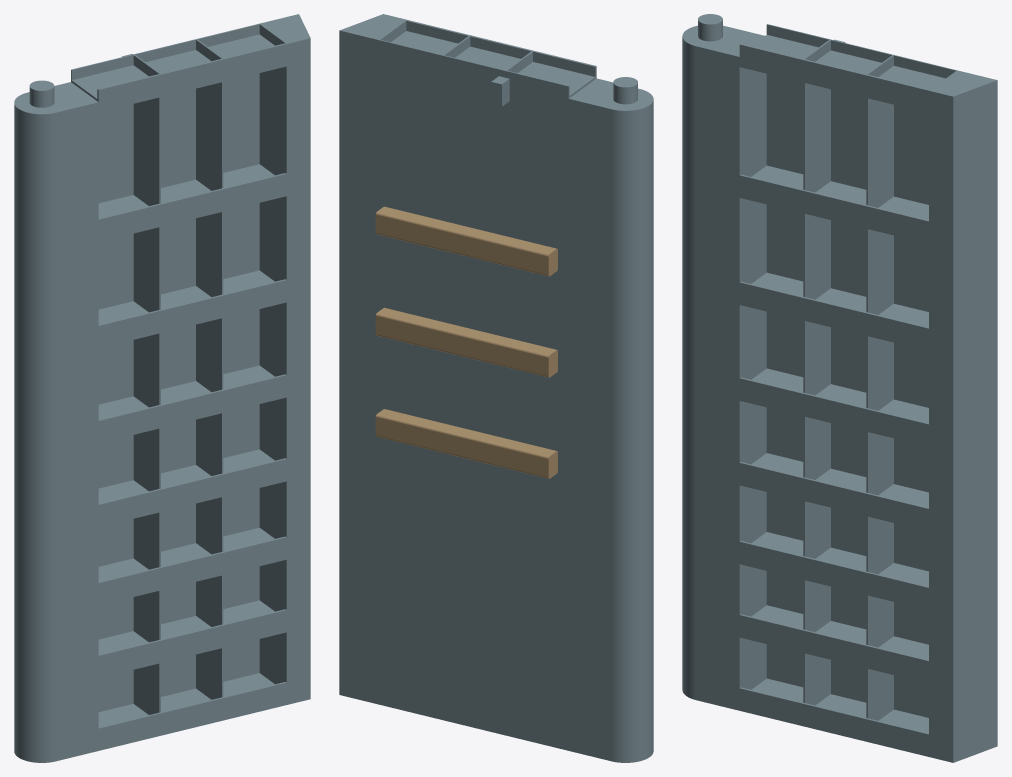
Rendered from step_13.glb.
3 views of the same model, side by side, from view 1: azimuth 30°, elevation 25°; view 2: azimuth 150°, elevation 25°; view 3: azimuth 330°, elevation 25° (orthographic).
Visible parts, largest first — view 1: part__gate leaf (welded S355 steel); view 2: part__gate leaf (welded S355 steel), part__oak fenders; view 3: part__gate leaf (welded S355 steel).
Part boxes in pixels (box(x1,y1,x2,y2)): part__gate leaf (welded S355 steel): box(14, 14, 310, 762); part__gate leaf (welded S355 steel): box(339, 14, 653, 762); part__oak fenders: box(375, 206, 557, 478); part__gate leaf (welded S355 steel): box(682, 14, 997, 762).
Size of the model in its own units: 2760 by 5950 by 600.
